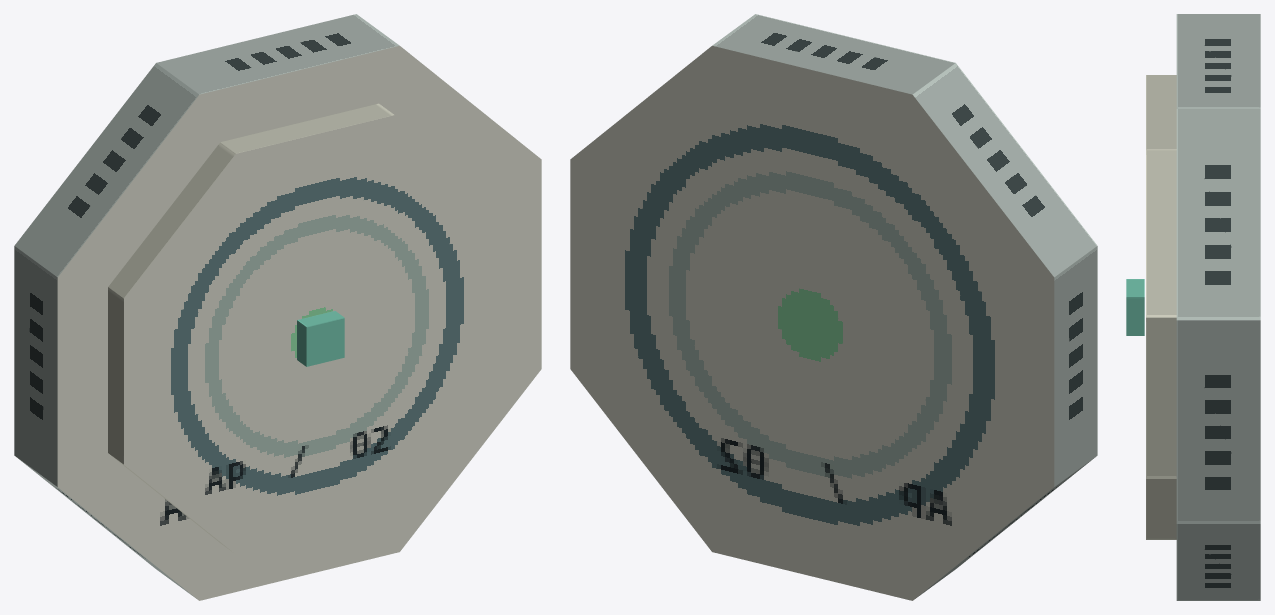
The model's file is punto_acceso_pared.glb.
The picture shows the model from 3 angles, left to right: view 1: azimuth 30°, elevation 25°; view 2: azimuth 150°, elevation 25°; view 3: azimuth 270°, elevation 25°; orthographic projection. The views are drawn at different scales.
Parts seen in each view (by area): view 1: EQUIPO; view 2: EQUIPO; view 3: EQUIPO.
Part boxes in pixels (bbox=[...]): EQUIPO: bbox=[14, 14, 541, 600]; EQUIPO: bbox=[570, 14, 1097, 600]; EQUIPO: bbox=[1126, 14, 1260, 600].
Bounding box in the file's own units: 0.2703 × 0.2703 × 0.0671.
1 material, 1 textured.
